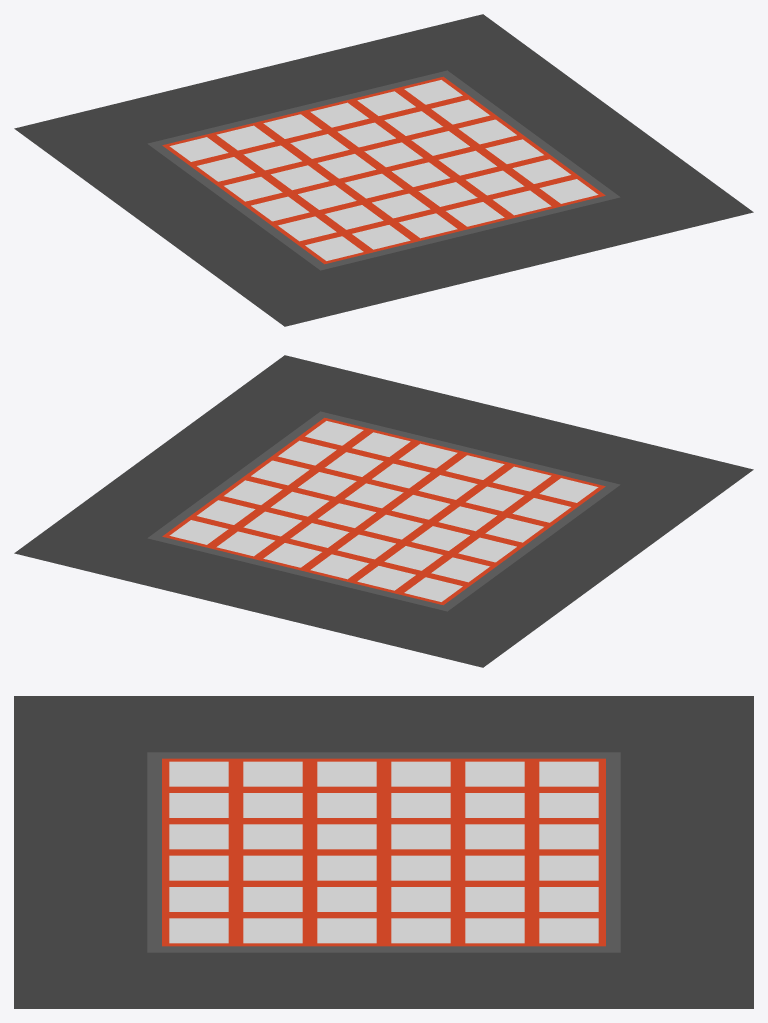
File: FloorVar3Model.fbx
The picture shows the model from 3 angles, top to bottom: view 1: azimuth 30°, elevation 25°; view 2: azimuth 150°, elevation 25°; view 3: azimuth 270°, elevation 25°; orthographic projection. The views are drawn at different scales.
Visible parts, largest first — view 1: FloorVar3; view 2: FloorVar3; view 3: FloorVar3.
Part boxes in pixels (bbox=[...]): FloorVar3: bbox=[14, 14, 753, 326]; FloorVar3: bbox=[14, 355, 753, 667]; FloorVar3: bbox=[14, 696, 753, 1008].
Bounding box in the file's own units: 10 × 0 × 10.
